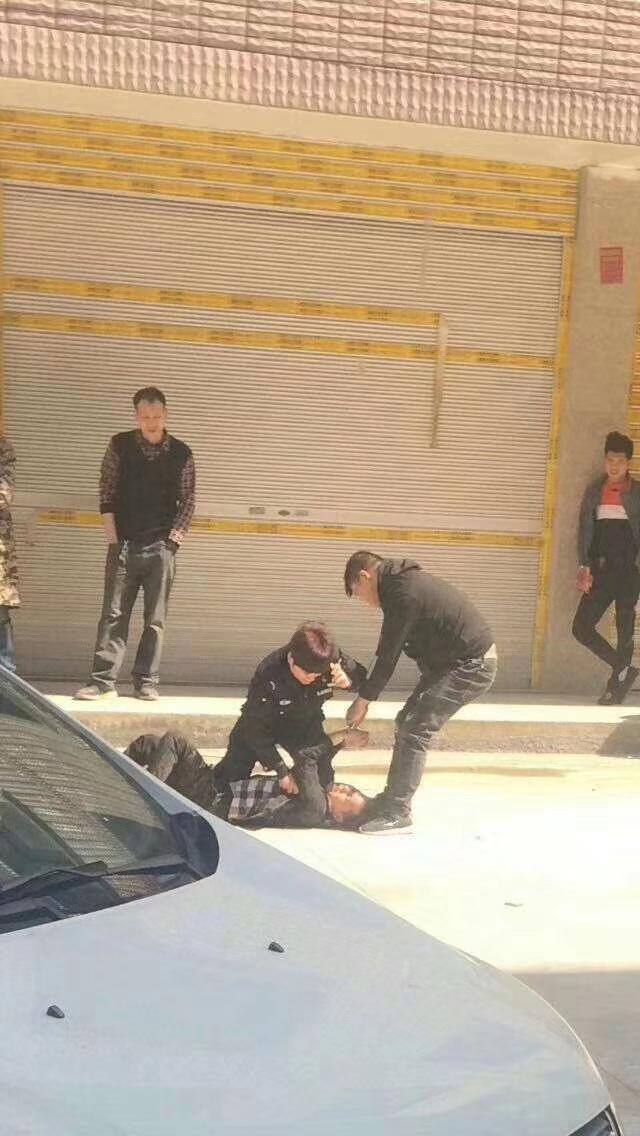bending: (326, 516, 516, 848), (212, 613, 387, 829)
down: (109, 736, 402, 829)
up: (86, 376, 209, 730), (563, 414, 640, 694)
